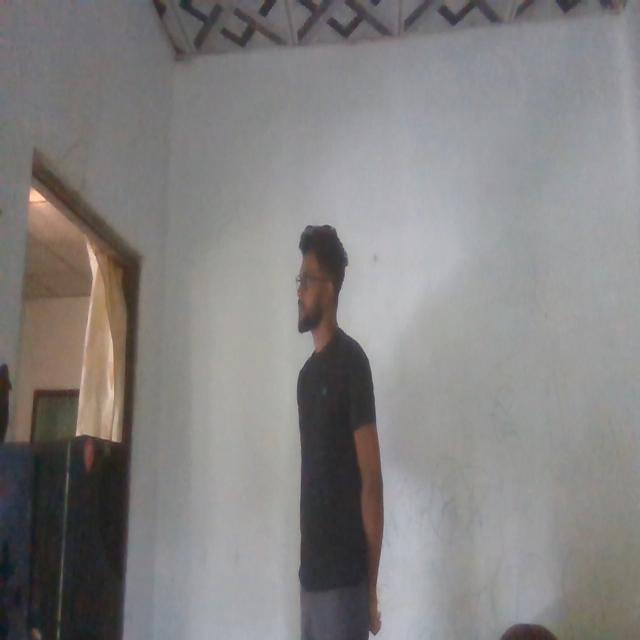Person: (281, 210, 384, 640)
